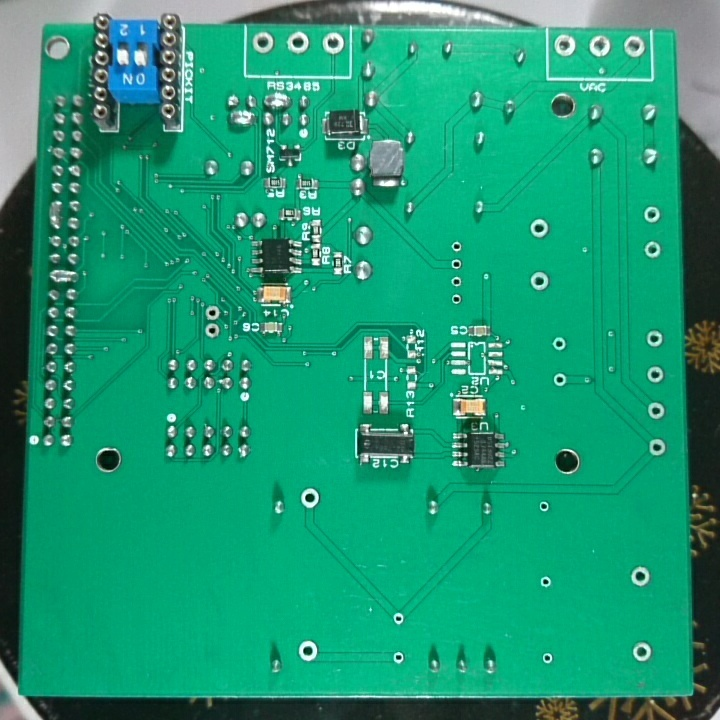F: (321, 29, 347, 58), (295, 636, 321, 665), (621, 33, 648, 60), (297, 484, 323, 512), (250, 29, 277, 55), (628, 563, 654, 590), (630, 638, 655, 666), (284, 30, 311, 55), (553, 32, 577, 58), (588, 32, 612, 58), (528, 217, 551, 243), (528, 269, 551, 293), (644, 398, 668, 421), (646, 435, 668, 460), (641, 203, 664, 226), (643, 238, 664, 261), (646, 363, 667, 385), (549, 369, 571, 389), (645, 328, 665, 349), (549, 333, 568, 355), (202, 320, 222, 340), (201, 303, 222, 321), (539, 649, 558, 668), (390, 608, 407, 628), (535, 497, 552, 516), (448, 237, 466, 254), (448, 255, 466, 272), (390, 648, 406, 667), (449, 289, 465, 307), (537, 573, 554, 589), (448, 274, 464, 289)
P: (225, 107, 257, 127), (47, 267, 79, 286), (45, 197, 64, 229), (262, 91, 294, 108)
